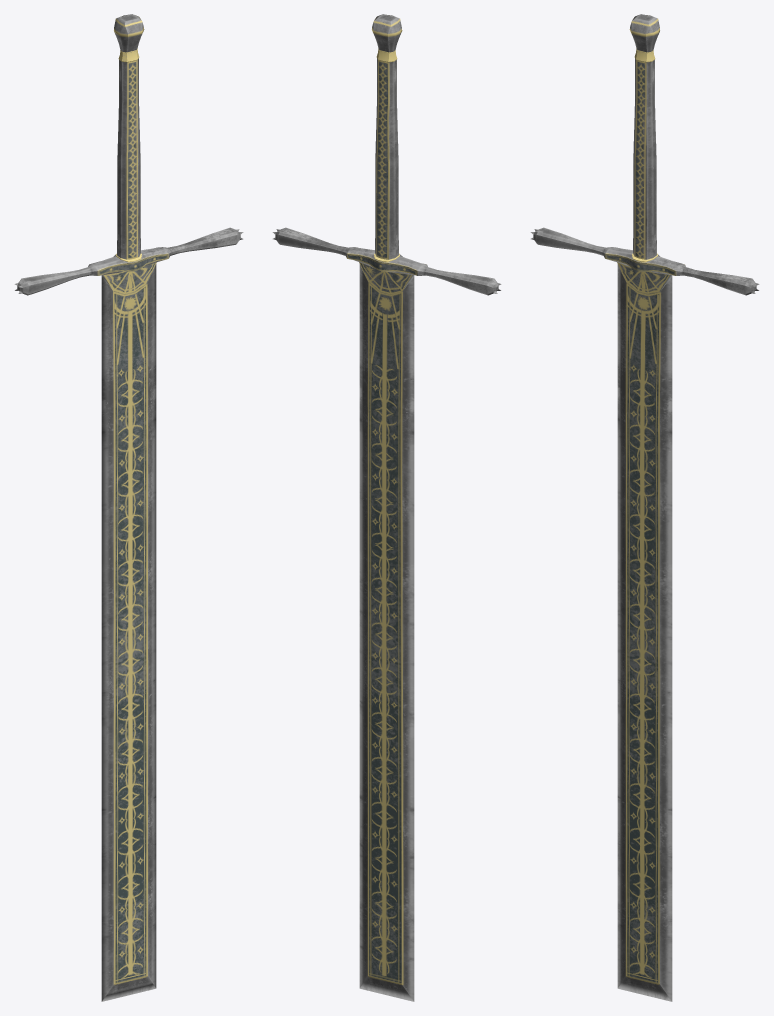
File: Sword.fbx
The picture shows the model from 3 angles, left to right: view 1: azimuth 30°, elevation 25°; view 2: azimuth 150°, elevation 25°; view 3: azimuth 330°, elevation 25°; orthographic projection.
Visible parts, largest first — view 1: Sword; view 2: Sword; view 3: Sword.
Boxes of the visible parts, x1,y1,x2,y2 form: Sword: (14, 14, 243, 1001); Sword: (272, 14, 501, 1001); Sword: (530, 14, 759, 1001).
Bounding box in the file's own units: 28.28 × 117 × 2.94.
